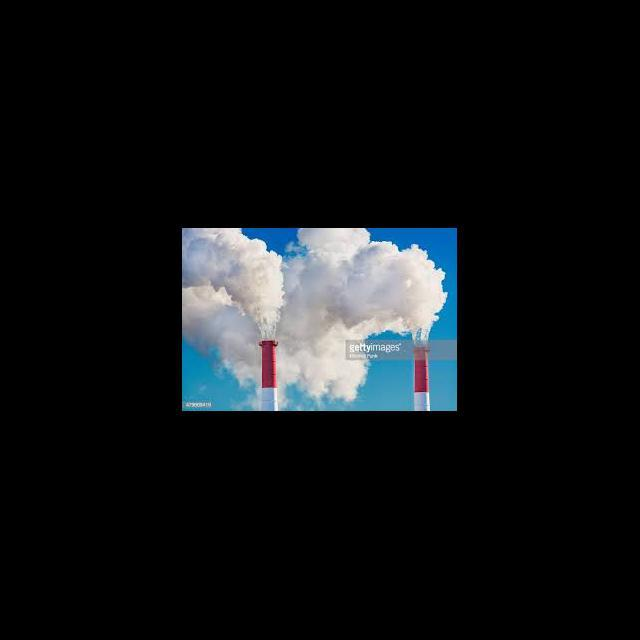Smoke: (184, 230, 456, 326)
